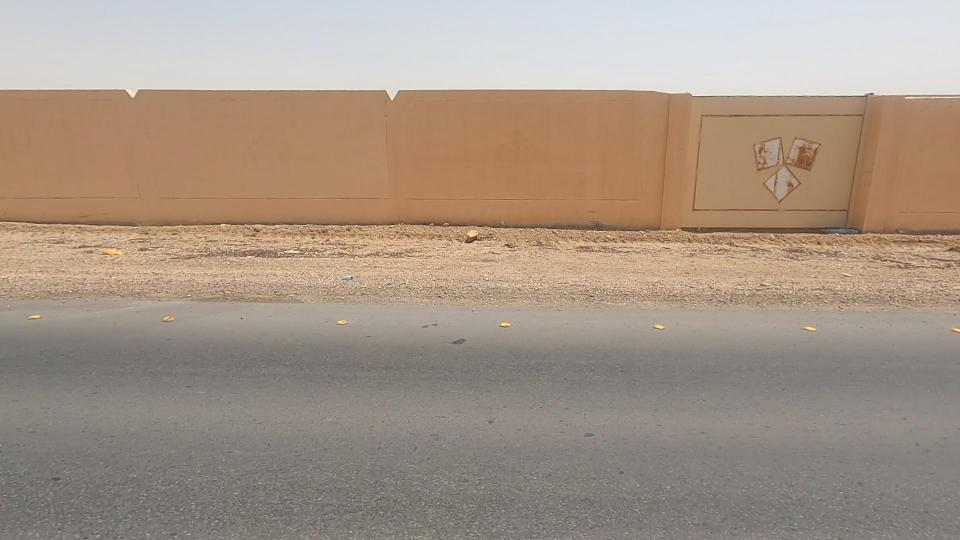GARBAGE: (68, 216, 141, 288), (805, 206, 883, 257), (314, 259, 377, 300), (439, 215, 499, 256)
